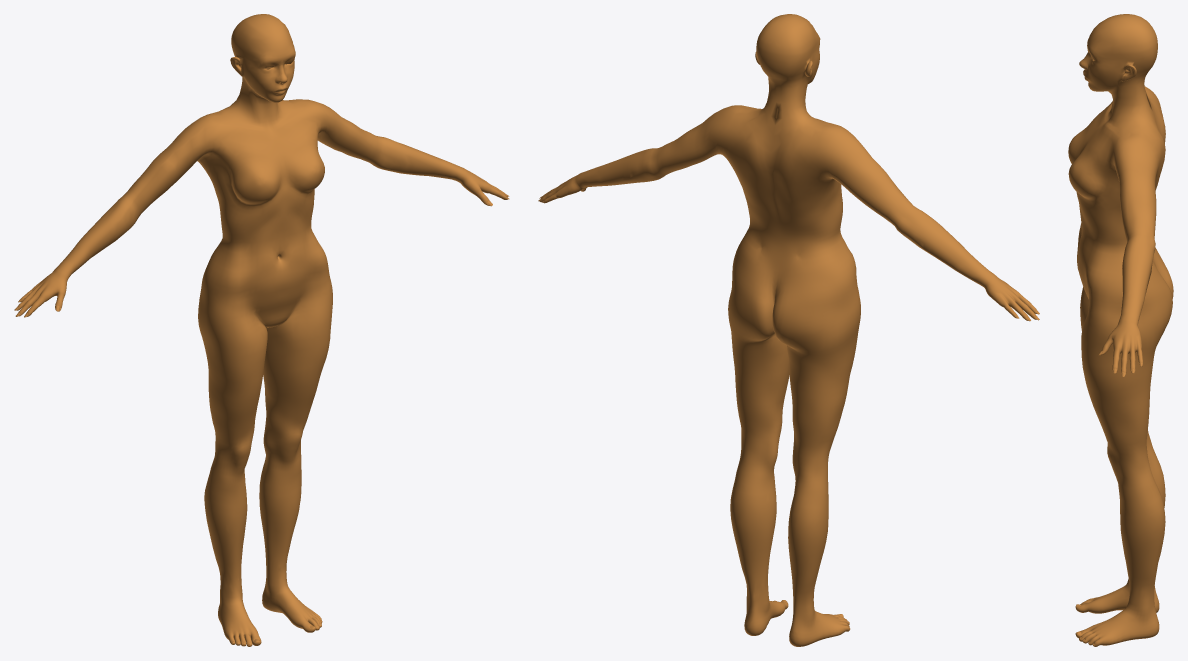
File: female_S_4.glb
The picture shows the model from 3 angles, left to right: view 1: azimuth 30°, elevation 25°; view 2: azimuth 150°, elevation 25°; view 3: azimuth 270°, elevation 25°; orthographic projection.
Parts seen in each view (by area): view 1: Body; view 2: Body; view 3: Body.
Boxes of the visible parts, left/top/right/bottom form: Body: left=17, top=14, right=508, bottom=646; Body: left=539, top=14, right=1037, bottom=646; Body: left=1068, top=14, right=1173, bottom=646.
Bounding box in the file's own units: 1.58 × 1.85 × 0.2894.
